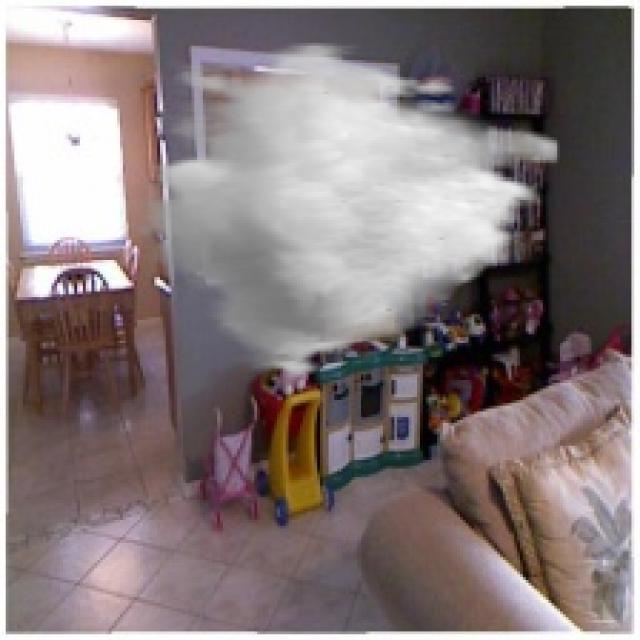Smoke: (137, 43, 560, 386)
